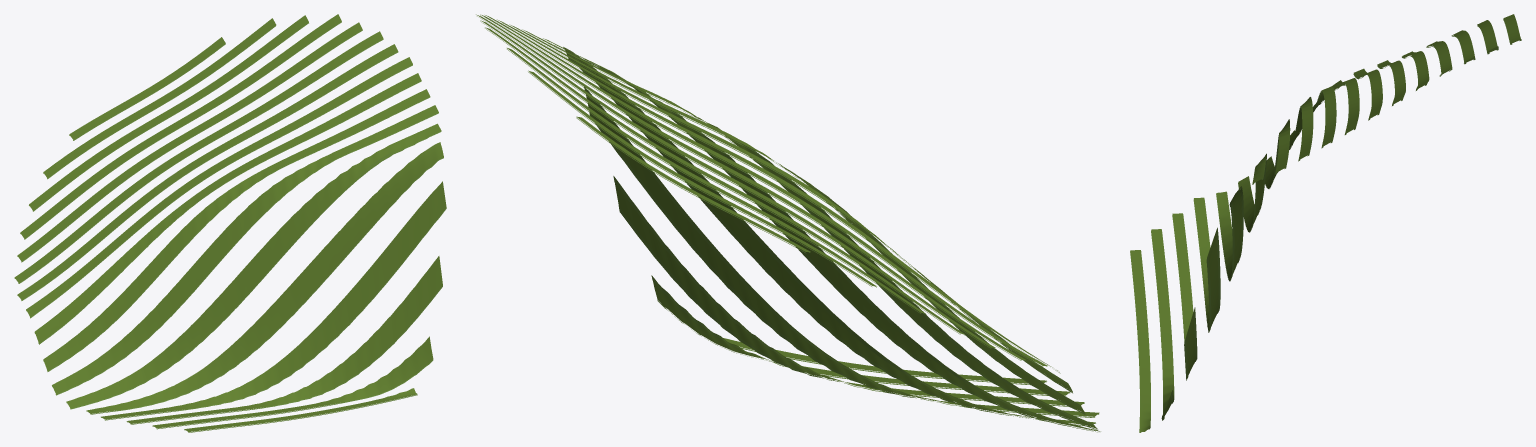
File: tea_rows.dae
3 renders of one model, left to right at view 1: azimuth 30°, elevation 25°; view 2: azimuth 150°, elevation 25°; view 3: azimuth 270°, elevation 25°, orthographic. The views are drawn at different scales.
Parts seen in each view (by area): view 1: tea_rows; view 2: tea_rows; view 3: tea_rows.
Part boxes in pixels (bbox=[...]): tea_rows: bbox=[14, 14, 446, 432]; tea_rows: bbox=[476, 14, 1100, 432]; tea_rows: bbox=[1130, 14, 1521, 432].
Size of the model in its own units: 130 by 84.54 by 91.97.
